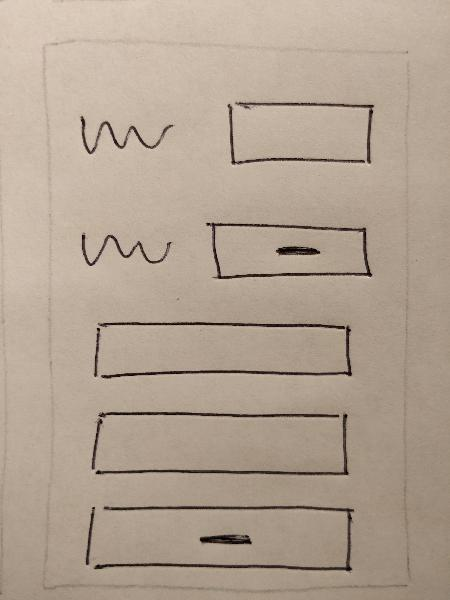button: (81, 500, 361, 577), (201, 212, 376, 287)
text: (73, 99, 176, 168), (75, 219, 179, 280)
text_input: (83, 310, 372, 390), (83, 402, 353, 484), (220, 93, 379, 180)
